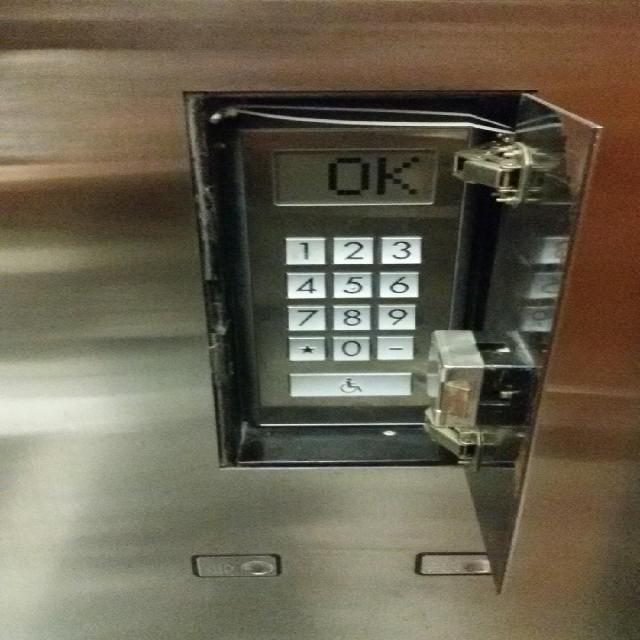-: (373, 333, 415, 363)
0: (329, 333, 371, 362)
1: (283, 235, 328, 267)
2: (328, 234, 376, 266)
3: (376, 234, 423, 266)
4: (281, 270, 329, 300)
5: (329, 270, 373, 300)
6: (375, 270, 421, 300)
7: (284, 304, 328, 334)
8: (329, 303, 372, 333)
9: (370, 302, 418, 332)
CH: (284, 370, 415, 399)
close: (411, 549, 496, 579)
led: (267, 146, 443, 208)
open: (188, 550, 284, 580)
s: (282, 334, 329, 364)
